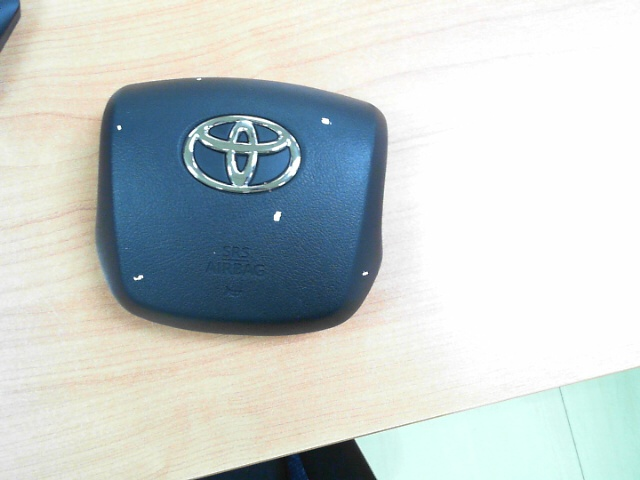Airbag: (320, 117, 332, 127), (273, 211, 283, 222), (133, 274, 144, 281), (115, 124, 123, 132), (361, 270, 369, 276)
